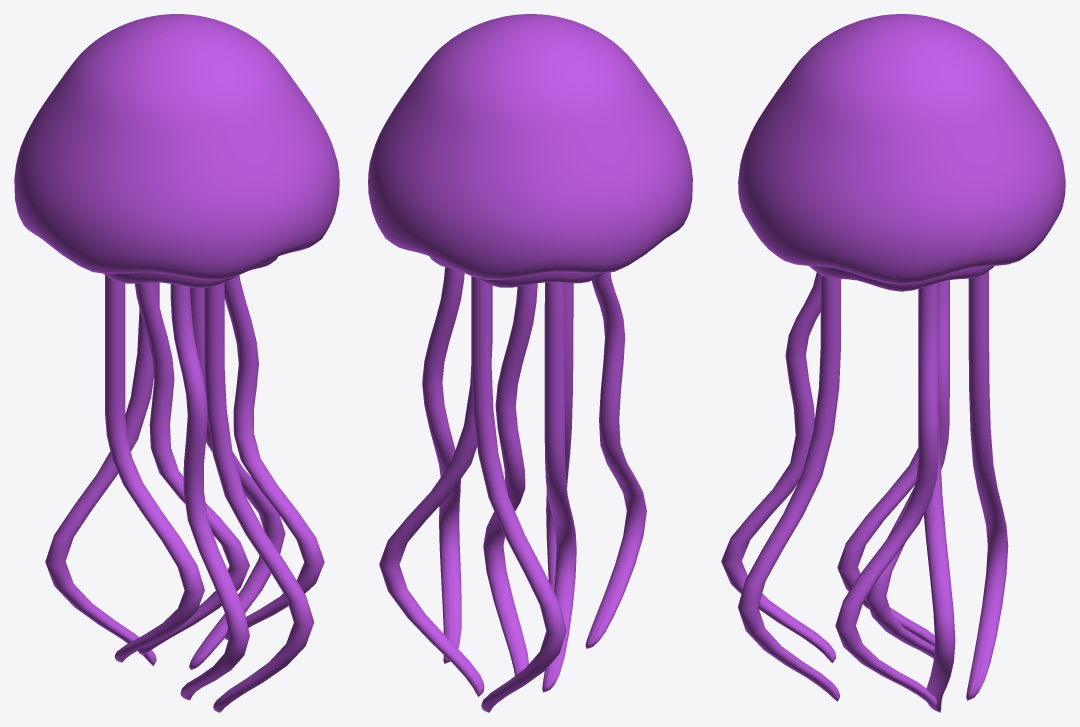
Rendered from jellyfish-final.fbx.
3 renders of one model, left to right at view 1: azimuth 30°, elevation 25°; view 2: azimuth 150°, elevation 25°; view 3: azimuth 270°, elevation 25°, orthographic.
Parts seen in each view (by area): view 1: pSphere13; view 2: pSphere13; view 3: pSphere13.
Boxes of the visible parts, x1,y1,x2,y2 form: pSphere13: [14, 14, 339, 712]; pSphere13: [368, 14, 692, 712]; pSphere13: [721, 14, 1065, 712].
Bounding box in the file's own units: 9.01 × 20.36 × 9.47.
